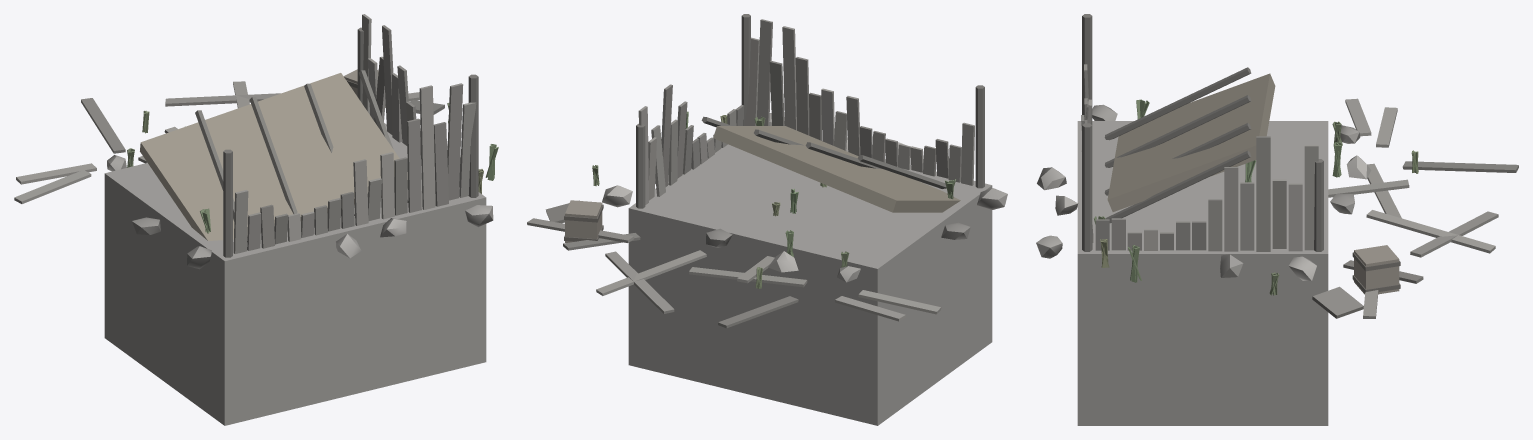
File: harbour_master_0.gltf
3 renders of one model, left to right at view 1: azimuth 30°, elevation 25°; view 2: azimuth 150°, elevation 25°; view 3: azimuth 270°, elevation 25°, orthographic. The views are drawn at different scales.
Parts seen in each view (by area): view 1: Body; view 2: Body; view 3: Body.
Boxes of the visible parts, bbox=[...] form: Body: bbox=[14, 14, 498, 425]; Body: bbox=[527, 14, 1007, 425]; Body: bbox=[1036, 14, 1518, 425].
Size of the model in its own units: 7.9 by 5.09 by 7.51.
